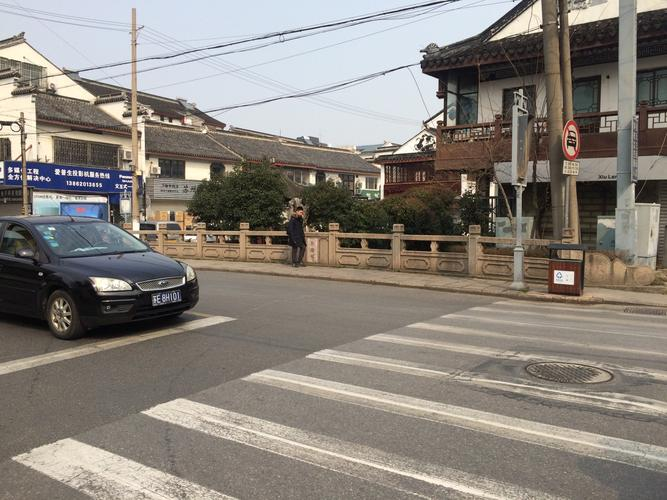person: (284, 206, 307, 267)
sign: (561, 119, 584, 176)
